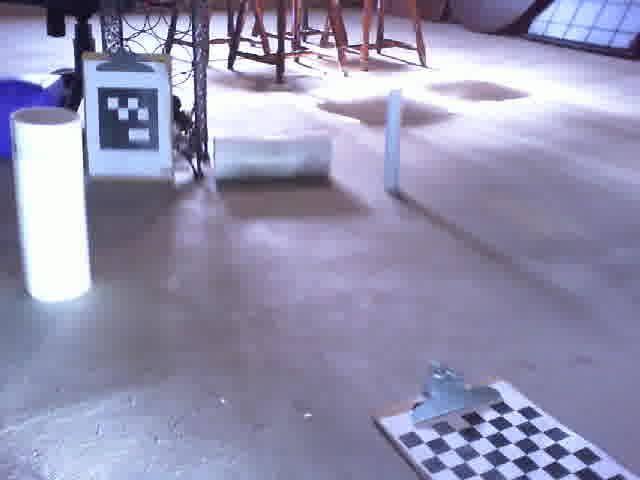coral: (8, 105, 96, 304), (211, 132, 338, 184)
